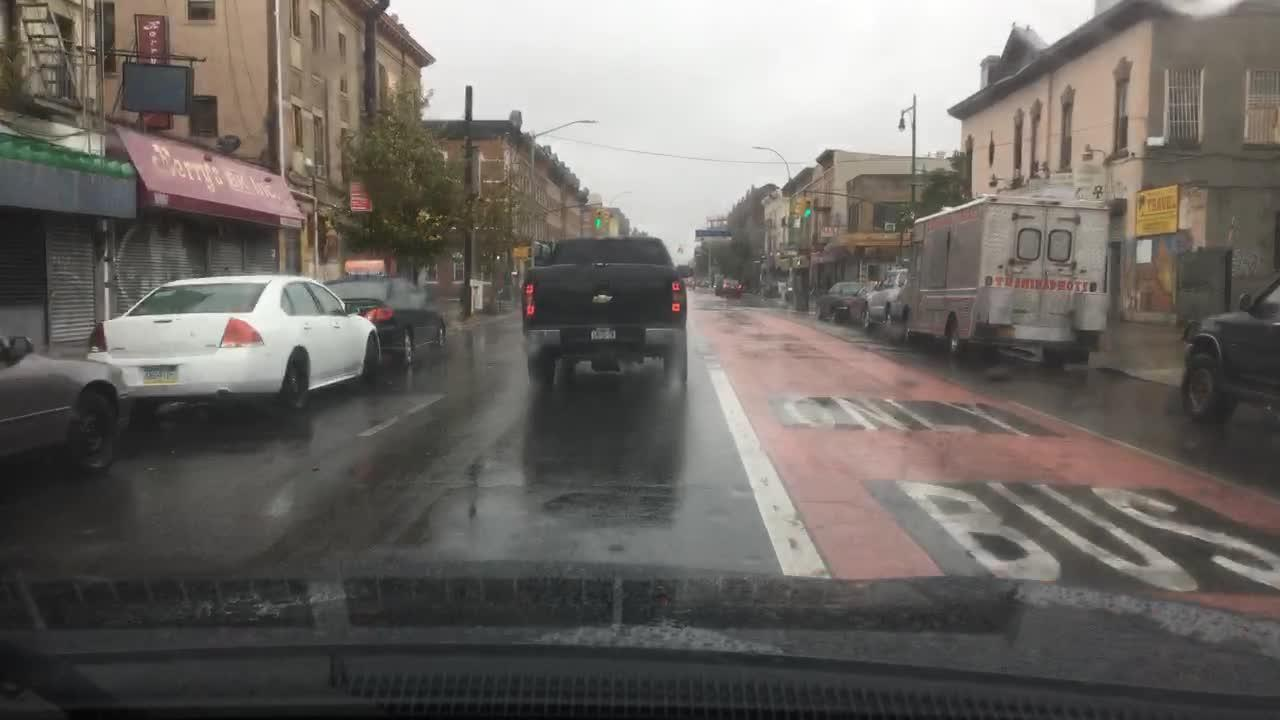chevrolet: (586, 287, 617, 309)
